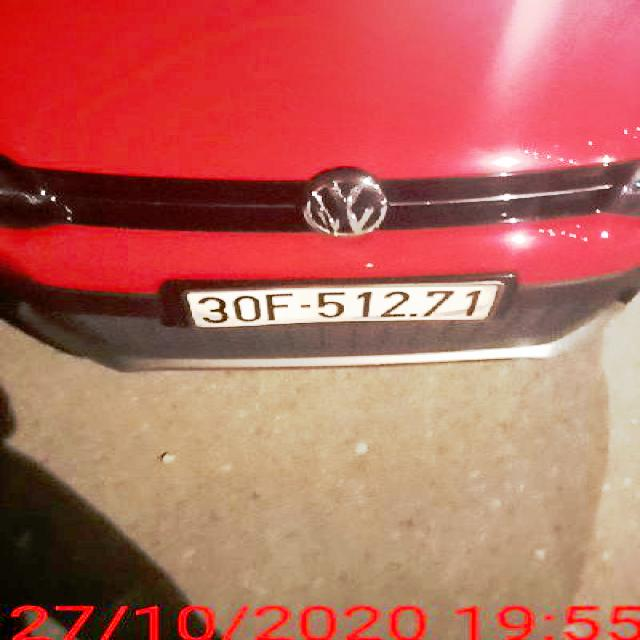license_plate: (187, 287, 499, 329)
